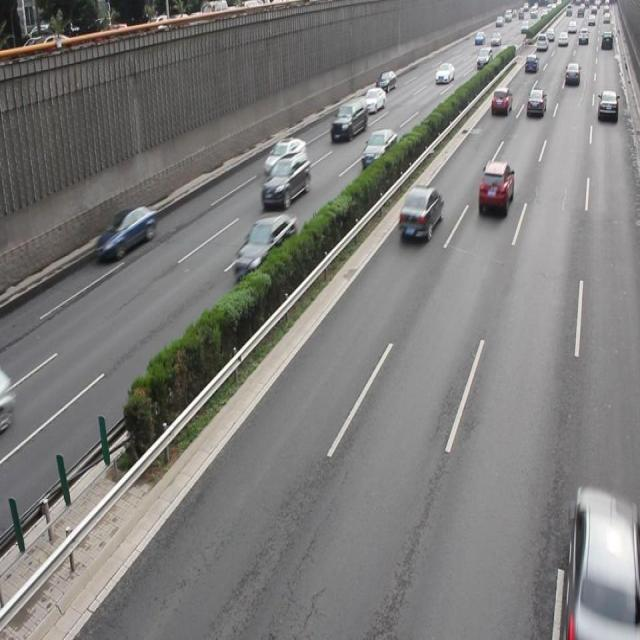car: (563, 489, 640, 640), (232, 212, 296, 279), (94, 203, 157, 260), (260, 151, 309, 206), (397, 184, 442, 240), (477, 160, 513, 218), (264, 136, 305, 177), (361, 128, 397, 169), (362, 86, 386, 114)
truck: (330, 97, 366, 141)
